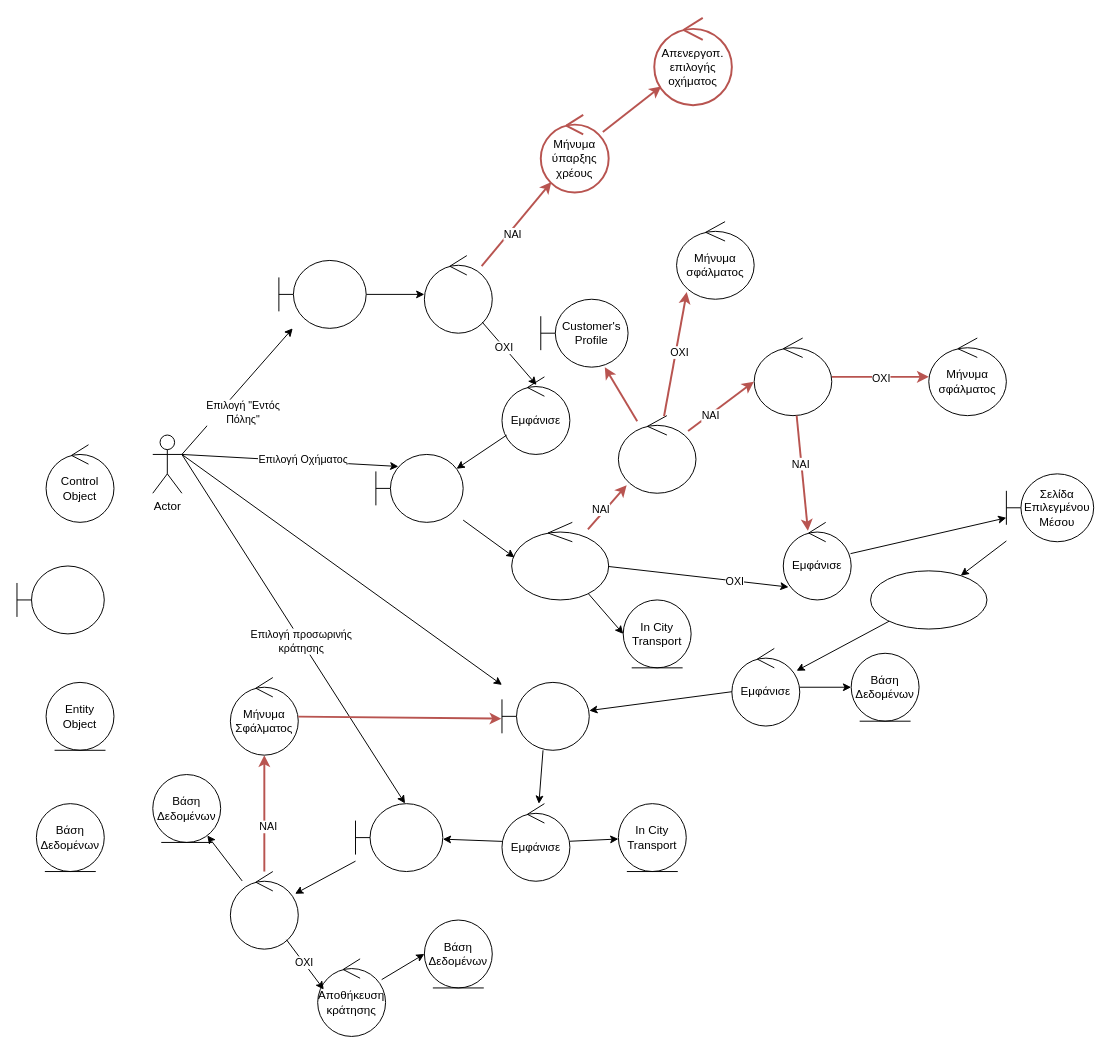
This 1111x1053 diagram has some shape labels left out. The shapes that lost their labels are listed below. From the top down, each one's centre as x and y in pixels, then its label:
[322,293]: Αρχική Οθόνη
[457,294]: Έχει ο πελάτης χρέος;
[792,376]: Είναι κατάλληλο το δίπλωμα;
[656,454]: Έχει εισάγει δίπλωμα;
[419,487]: Σελίδα "Εντός Πόλης"
[560,560]: Απαιτεί το επιλεγμένο όχημα δίπλωμα;
[60,599]: Boundary Object
[928,599]: Εύρεση Τοποθεσίας
[545,715]: Επιλογή Μέσου
[399,837]: Πληροφορίες Οχήματος
[263,910]: Έχει γίνει ήδη κράτηση;
